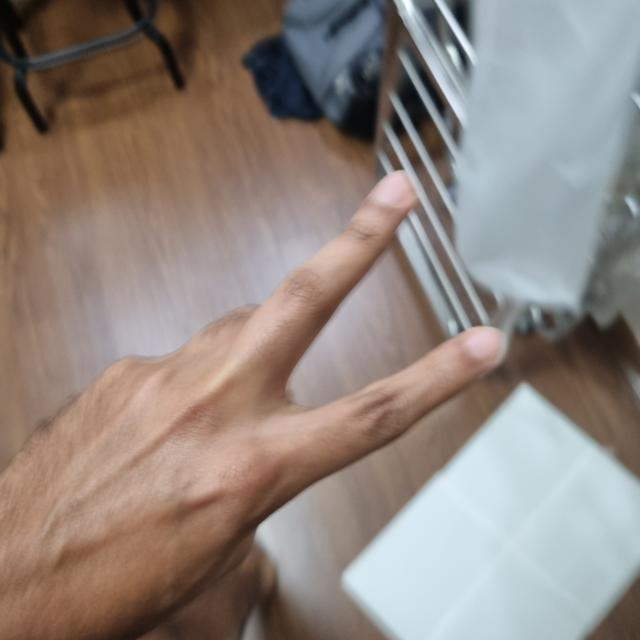Scissors: (0, 178, 508, 638)
